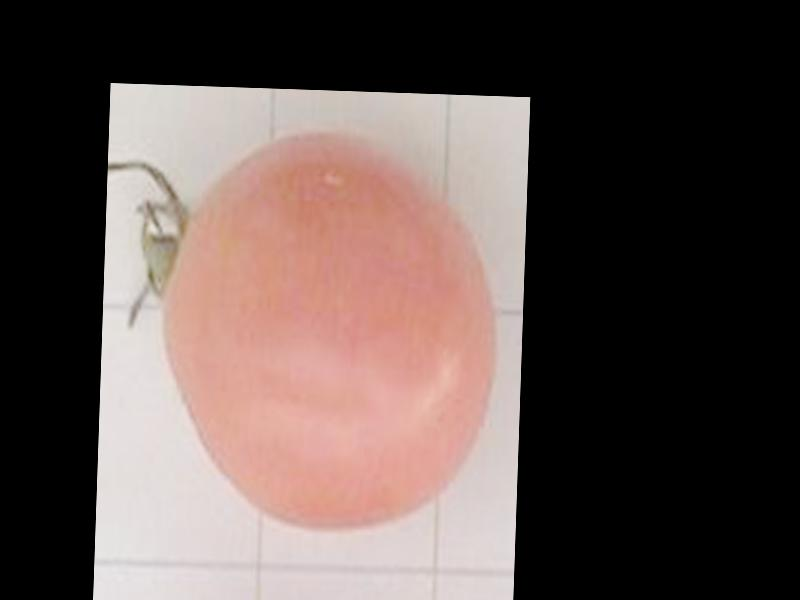Tomato: (155, 126, 503, 535)
